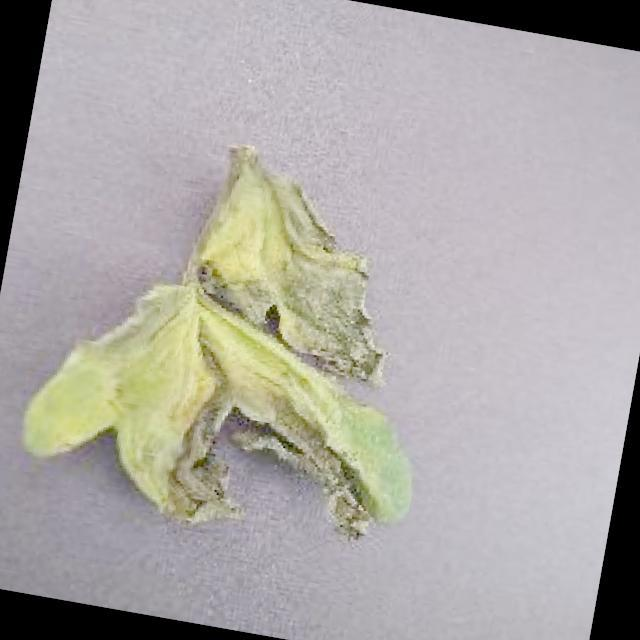Tomato late blight leaf: (2, 125, 462, 570)
